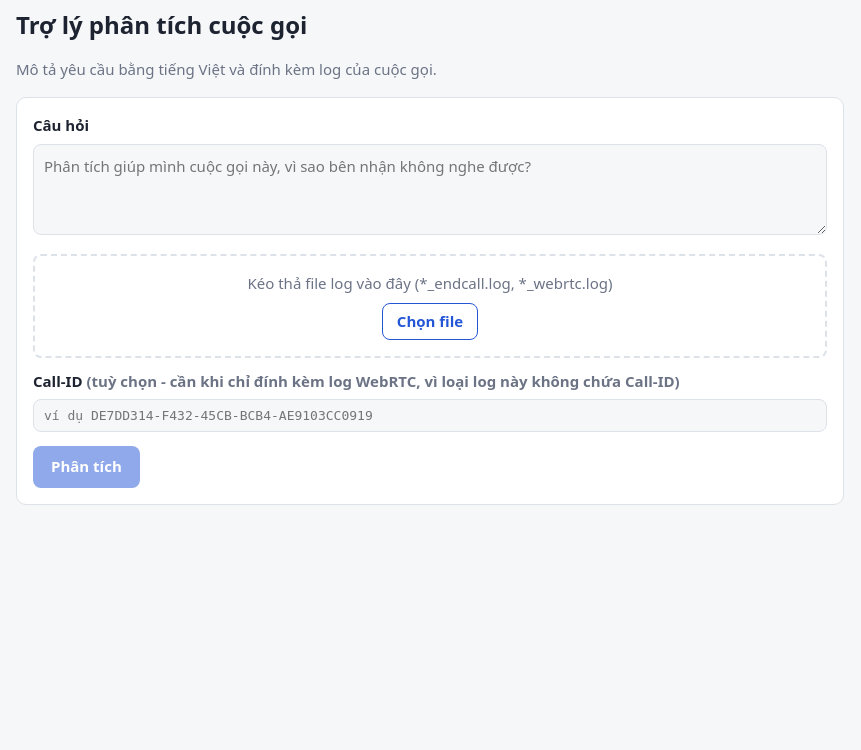
App › shows a degraded banner with the reason when the AI fell back to rules
Type "Phân tích" into the text box labelled "Câu hỏi" at (430, 190), box [33,144,827,236]
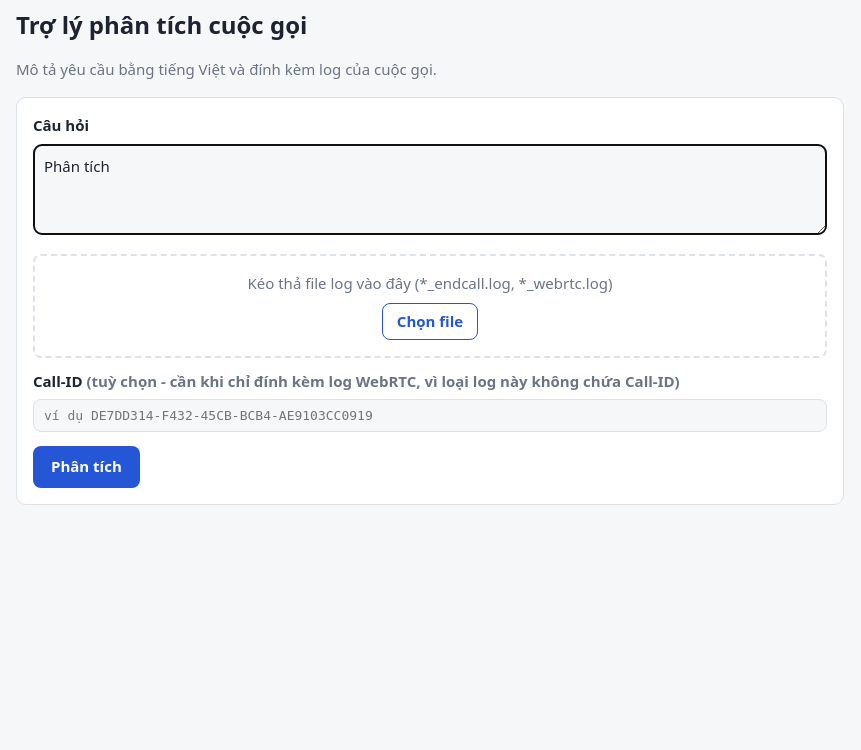
Click the button "Phân tích" at (86, 467), box [33,446,140,488]
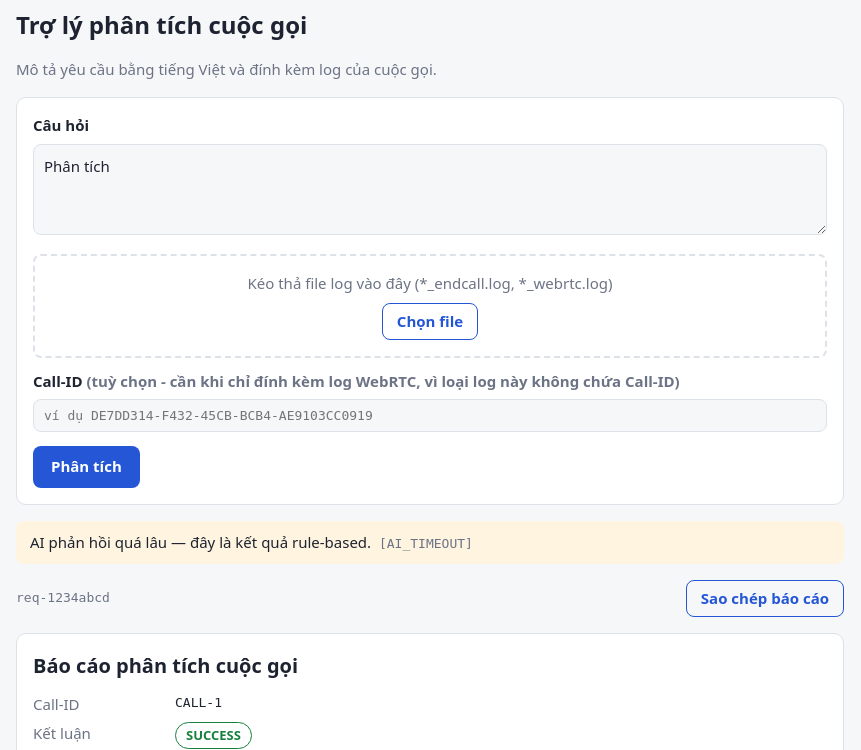
Now the text "AI phản hồi quá lâu — đây là kết quả rule-based. [AI_TIMEOUT]" is shown, box [16,521,844,564]
Now the text "[AI_TIMEOUT]" is shown, box [371,536,473,551]
